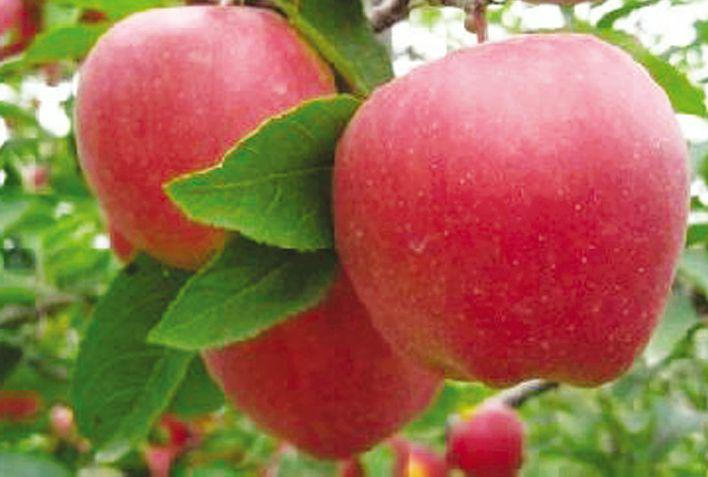apple: (325, 33, 687, 407), (70, 4, 336, 273), (200, 266, 436, 462)
